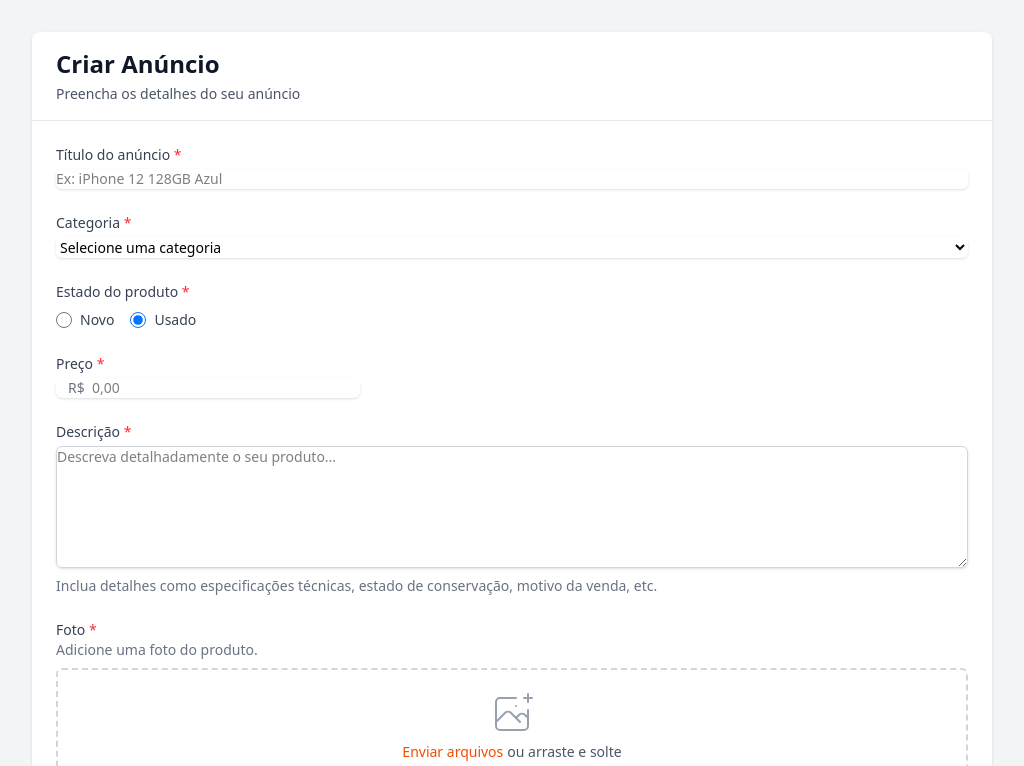
Anunciar Component › deve validar que imagem é obrigatória ao criar produto
The image size is (1024, 766).
Type "Produto Teste" into the field labelled "Título do anúncio *" at (512,179), box x1=56 y1=169 x2=968 y2=189
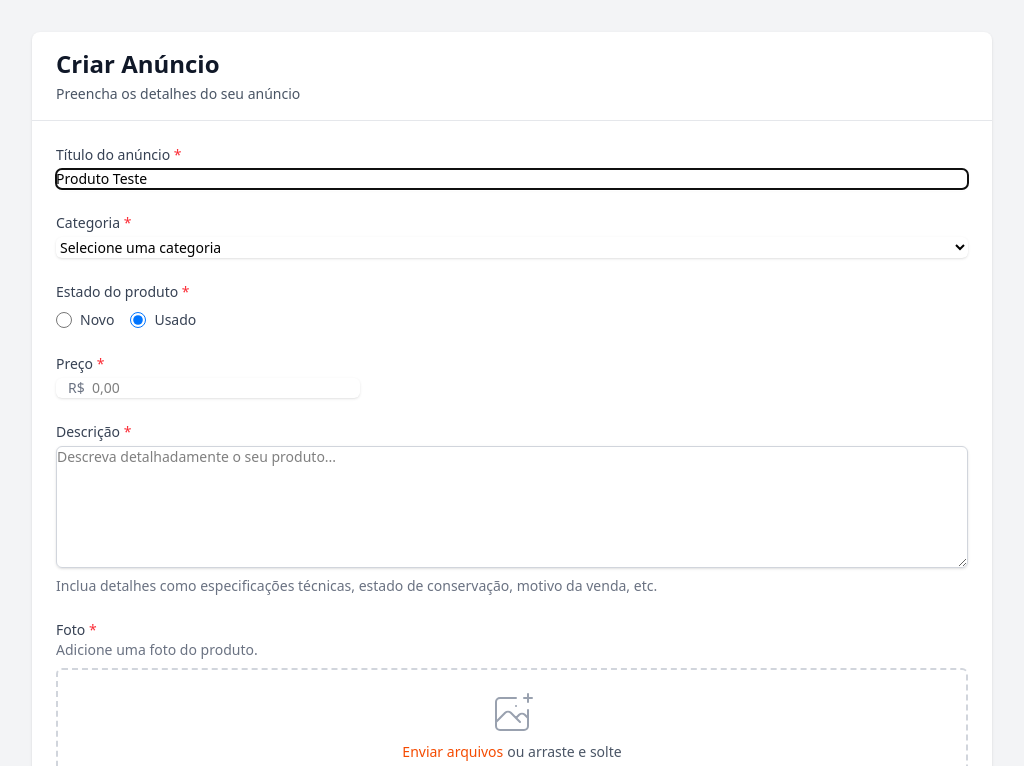
Type "Descrição teste" into the text box labelled "Descrição *" at (512,507), box x1=56 y1=446 x2=968 y2=568
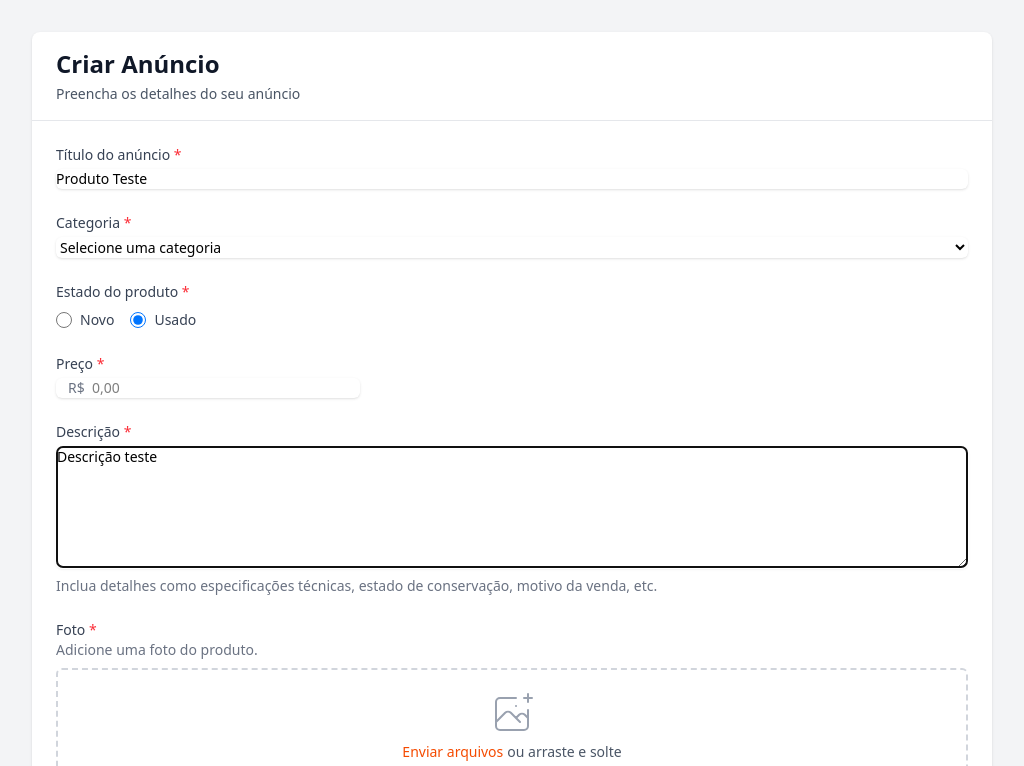
Type "100,00" into the field labelled "Preço *" at (208,388), box x1=56 y1=378 x2=360 y2=398
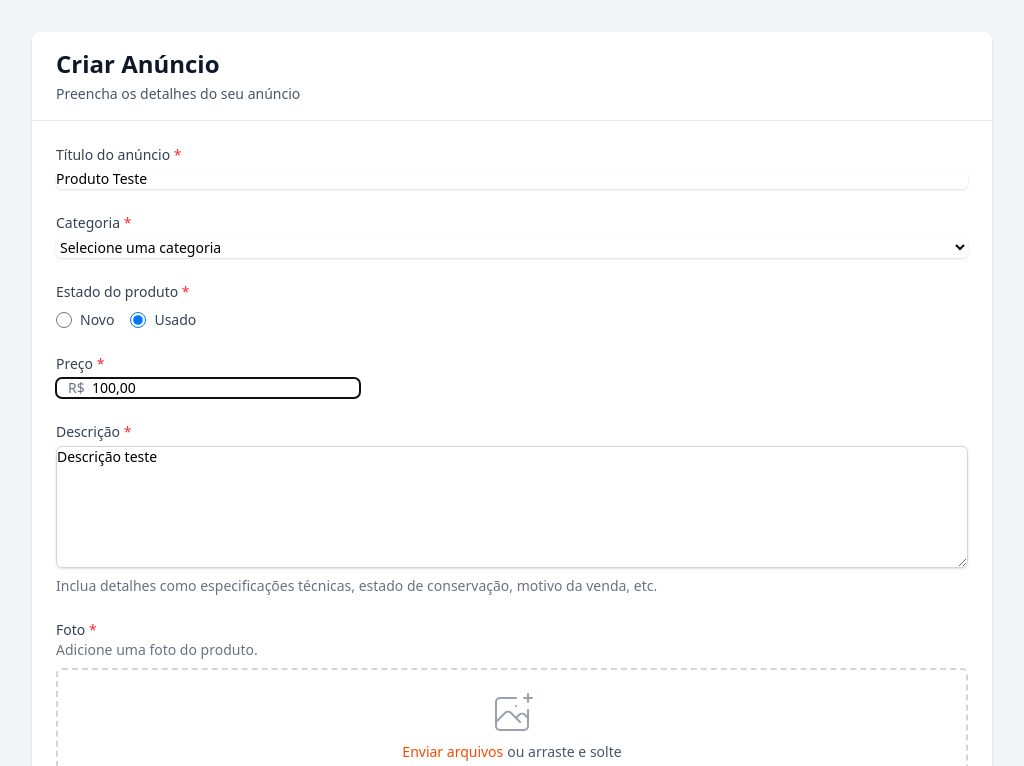
Select "Celular e Telefonia" in the dropdown labelled "Categoria *" at (512,248), box x1=56 y1=237 x2=968 y2=258
(page scrolled)
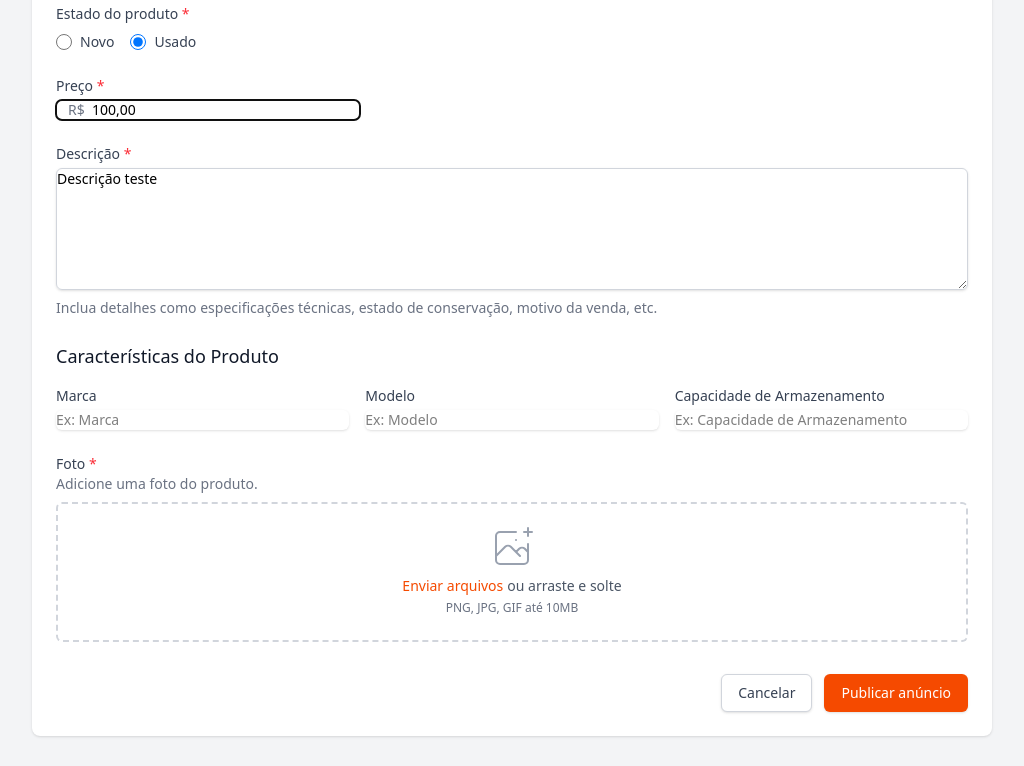
Click the button "Publicar anúncio" at (896,693), box x1=824 y1=674 x2=968 y2=712
(page scrolled)
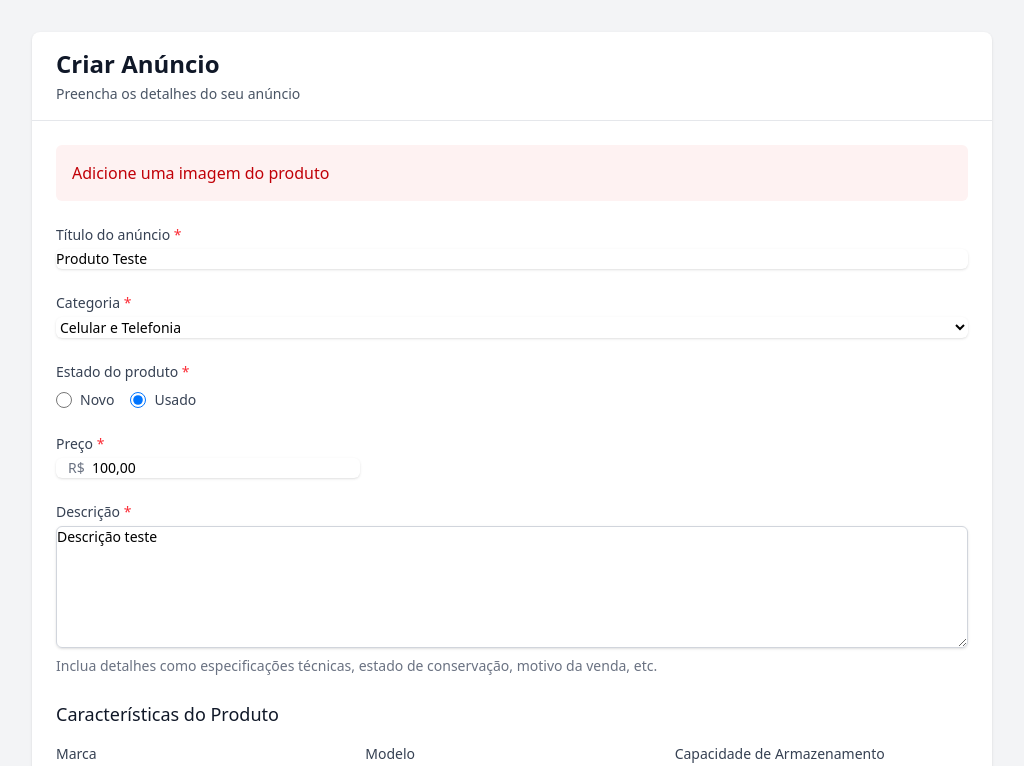
Check: the text "Adicione uma imagem do produto" is shown, box x1=56 y1=145 x2=968 y2=201
